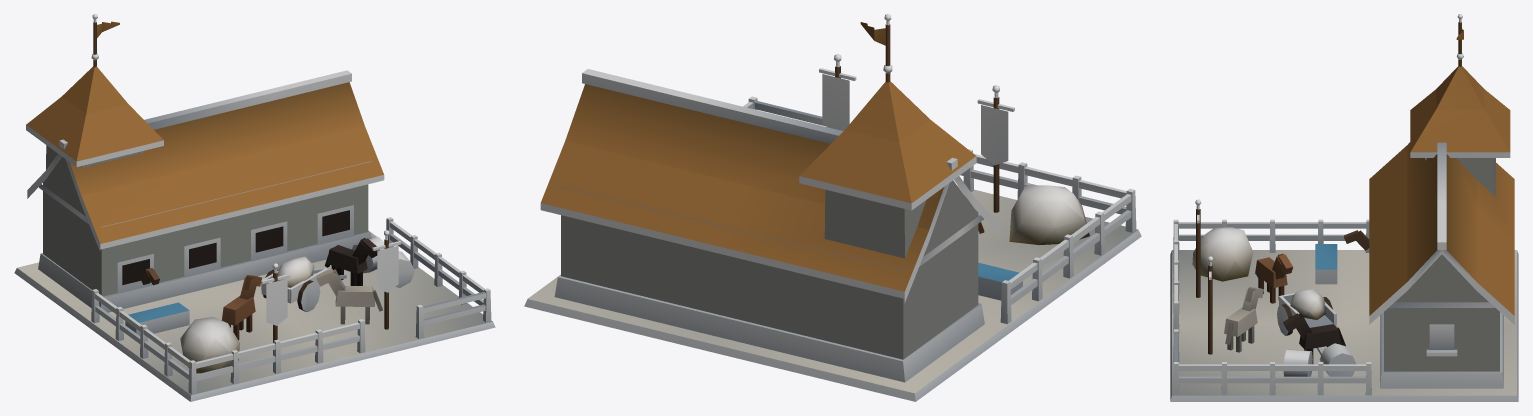
Rendered from stable_t4.glb.
3 views of the same model, side by side, from view 1: azimuth 30°, elevation 25°; view 2: azimuth 150°, elevation 25°; view 3: azimuth 270°, elevation 25° (orthographic). The views are drawn at different scales.
Visible parts, largest first — view 1: stable_t4; view 2: stable_t4; view 3: stable_t4.
Part boxes in pixels (box(x1,y1,x2,y2)): stable_t4: box(14, 14, 495, 401); stable_t4: box(524, 14, 1141, 401); stable_t4: box(1170, 14, 1518, 401).
Size of the model in its own units: 2.86 by 2.4 by 2.86.
